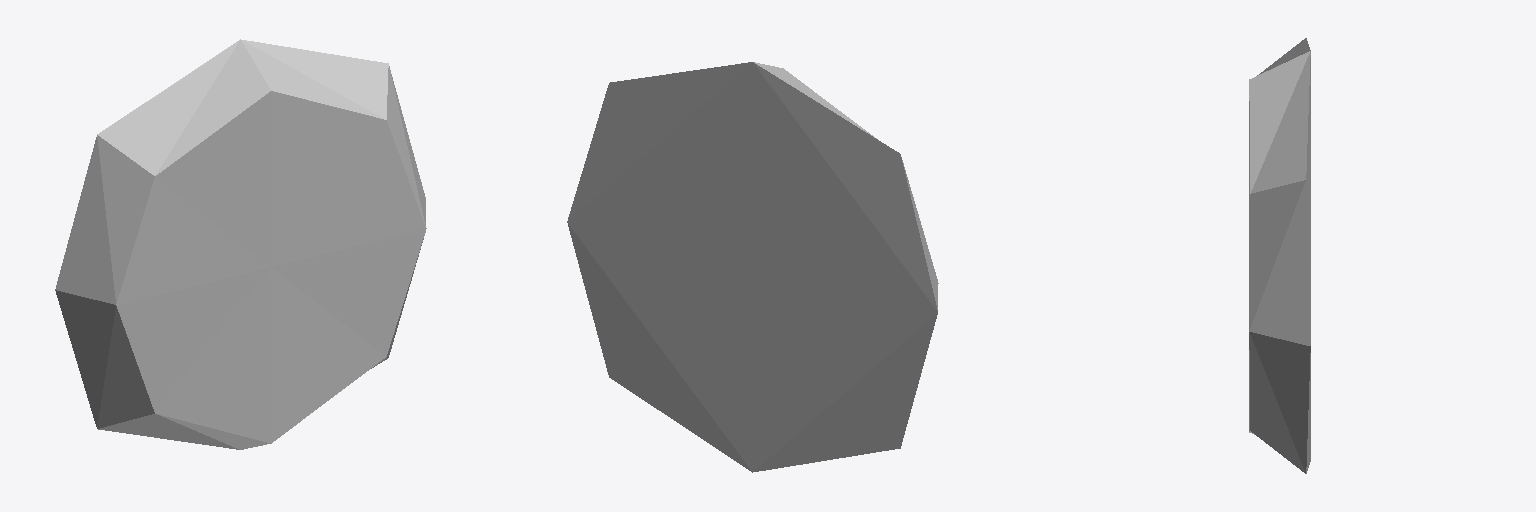
File: chopped_sphere_slice_02.obj
3 views of the same model, side by side, from view 1: azimuth 30°, elevation 25°; view 2: azimuth 150°, elevation 25°; view 3: azimuth 270°, elevation 25° (orthographic).
Parts seen in each view (by area): view 1: fully_chopped.002_Cube.004; view 2: fully_chopped.002_Cube.004; view 3: fully_chopped.002_Cube.004.
Boxes of the visible parts, <box> form: fully_chopped.002_Cube.004: <box>55,39,426,449</box>; fully_chopped.002_Cube.004: <box>567,62,938,472</box>; fully_chopped.002_Cube.004: <box>1249,38,1310,473</box>.
Bounding box in the file's own units: 1.8 × 1.9 × 0.2579.